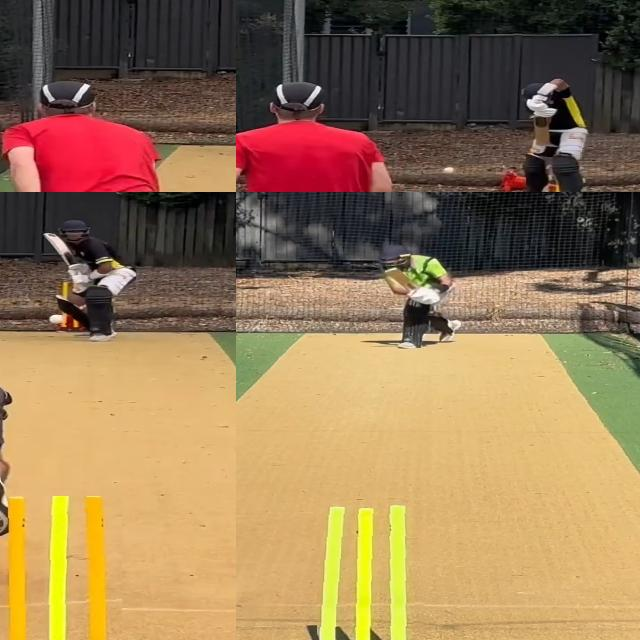Cricket ball: (49, 312, 69, 325), (442, 164, 458, 174)
Stumps: (0, 495, 121, 640), (317, 502, 429, 640)
